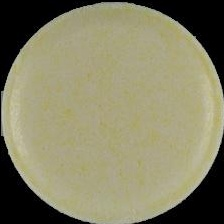53808-1006: (0, 0, 224, 224)
